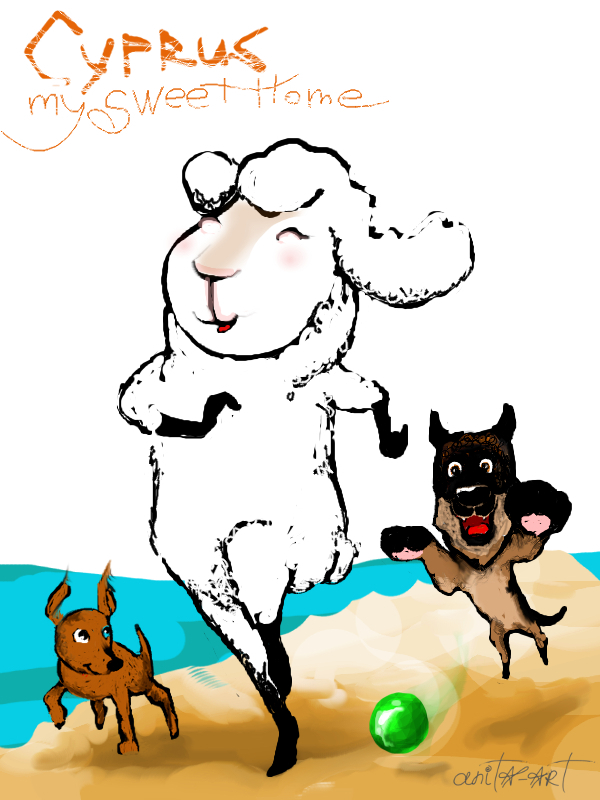dog: (382, 406, 580, 663), (12, 550, 206, 749)
